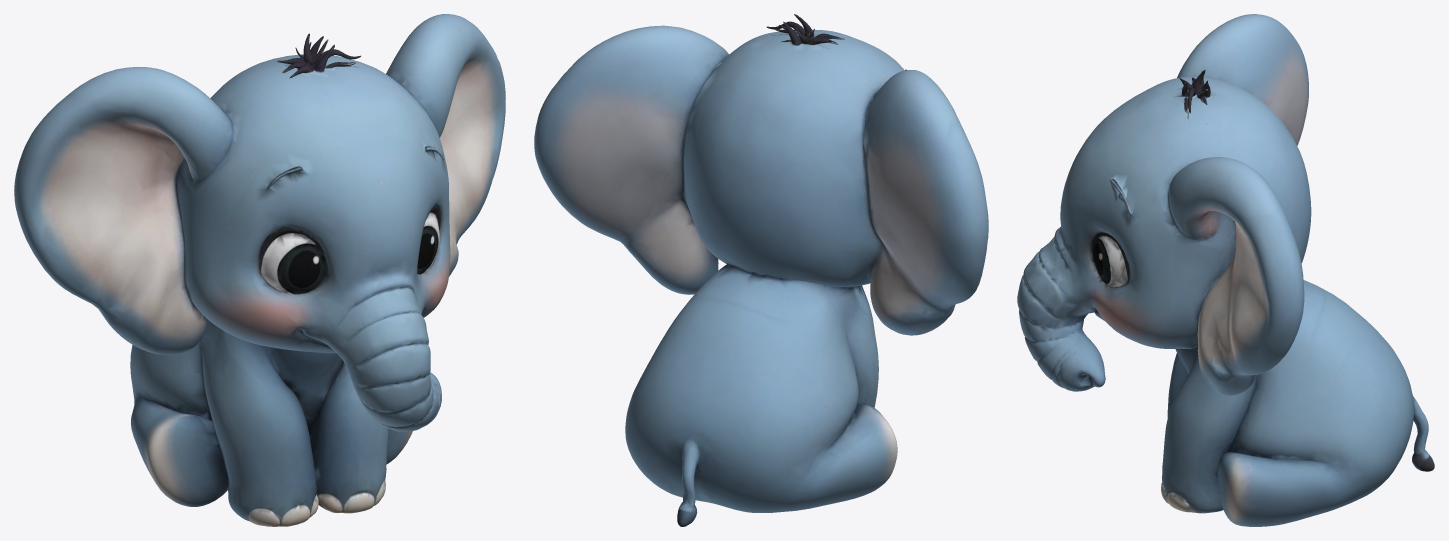
The model's file is elephant-b.glb.
3 views of the same model, side by side, from view 1: azimuth 30°, elevation 25°; view 2: azimuth 150°, elevation 25°; view 3: azimuth 270°, elevation 25° (orthographic). The views are drawn at different scales.
Size of the model in its own units: 1.9 by 1.77 by 1.61.
Materials: 1 (1 with a texture image).
